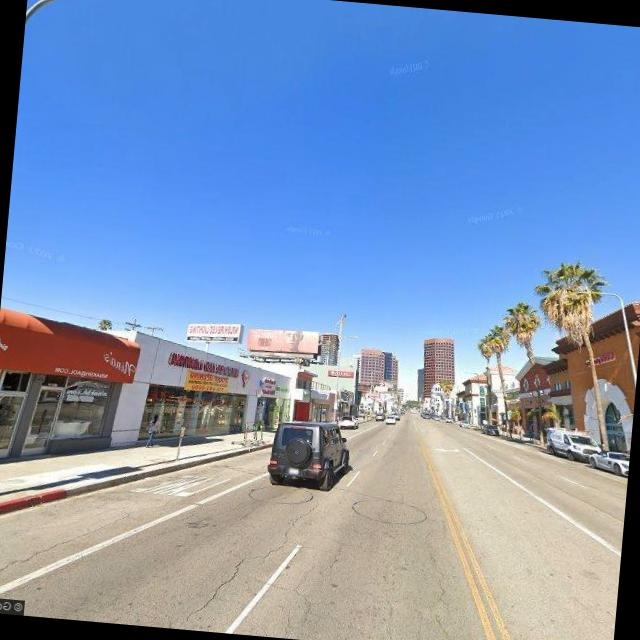pothole: (179, 491, 332, 638), (0, 498, 134, 599)
